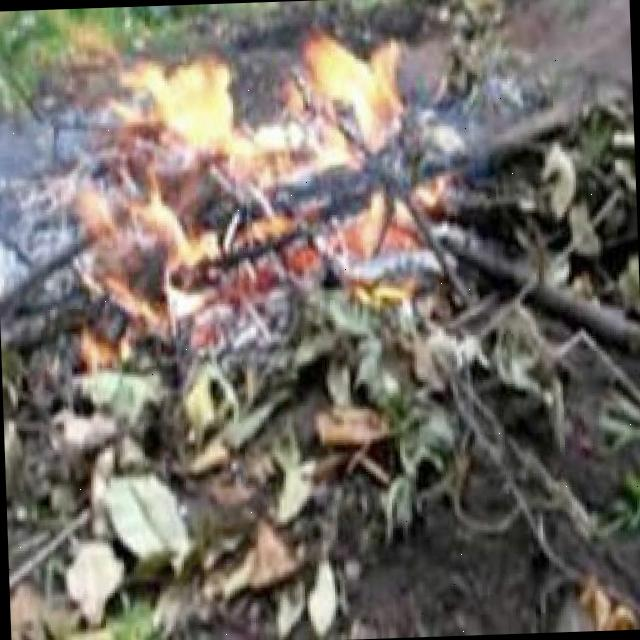fire: (52, 19, 462, 348)
